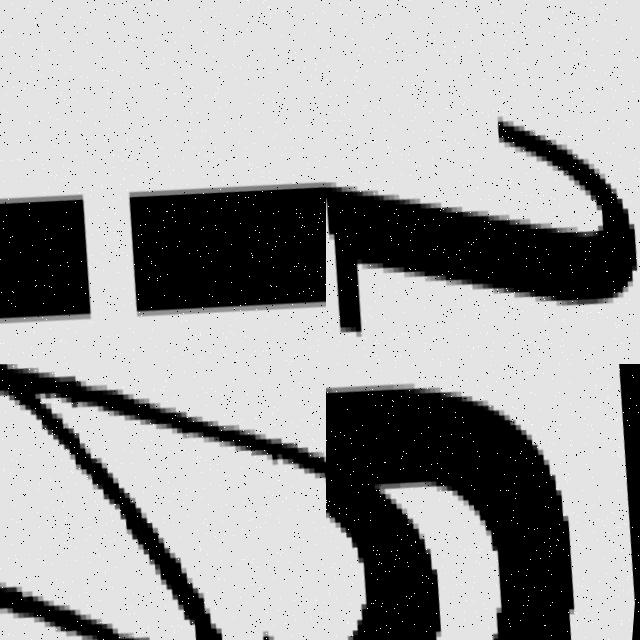G: (326, 364, 620, 640)
I: (326, 56, 640, 364), (0, 117, 326, 360)
Y: (0, 364, 326, 640)
